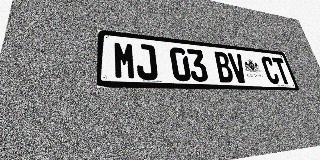0: (169, 47, 192, 81)
3: (186, 49, 209, 82)
B: (213, 51, 235, 83)
C: (260, 56, 281, 84)
J: (135, 43, 158, 80)
M: (113, 41, 137, 80)
T: (271, 57, 292, 84)
V: (227, 53, 249, 83)
